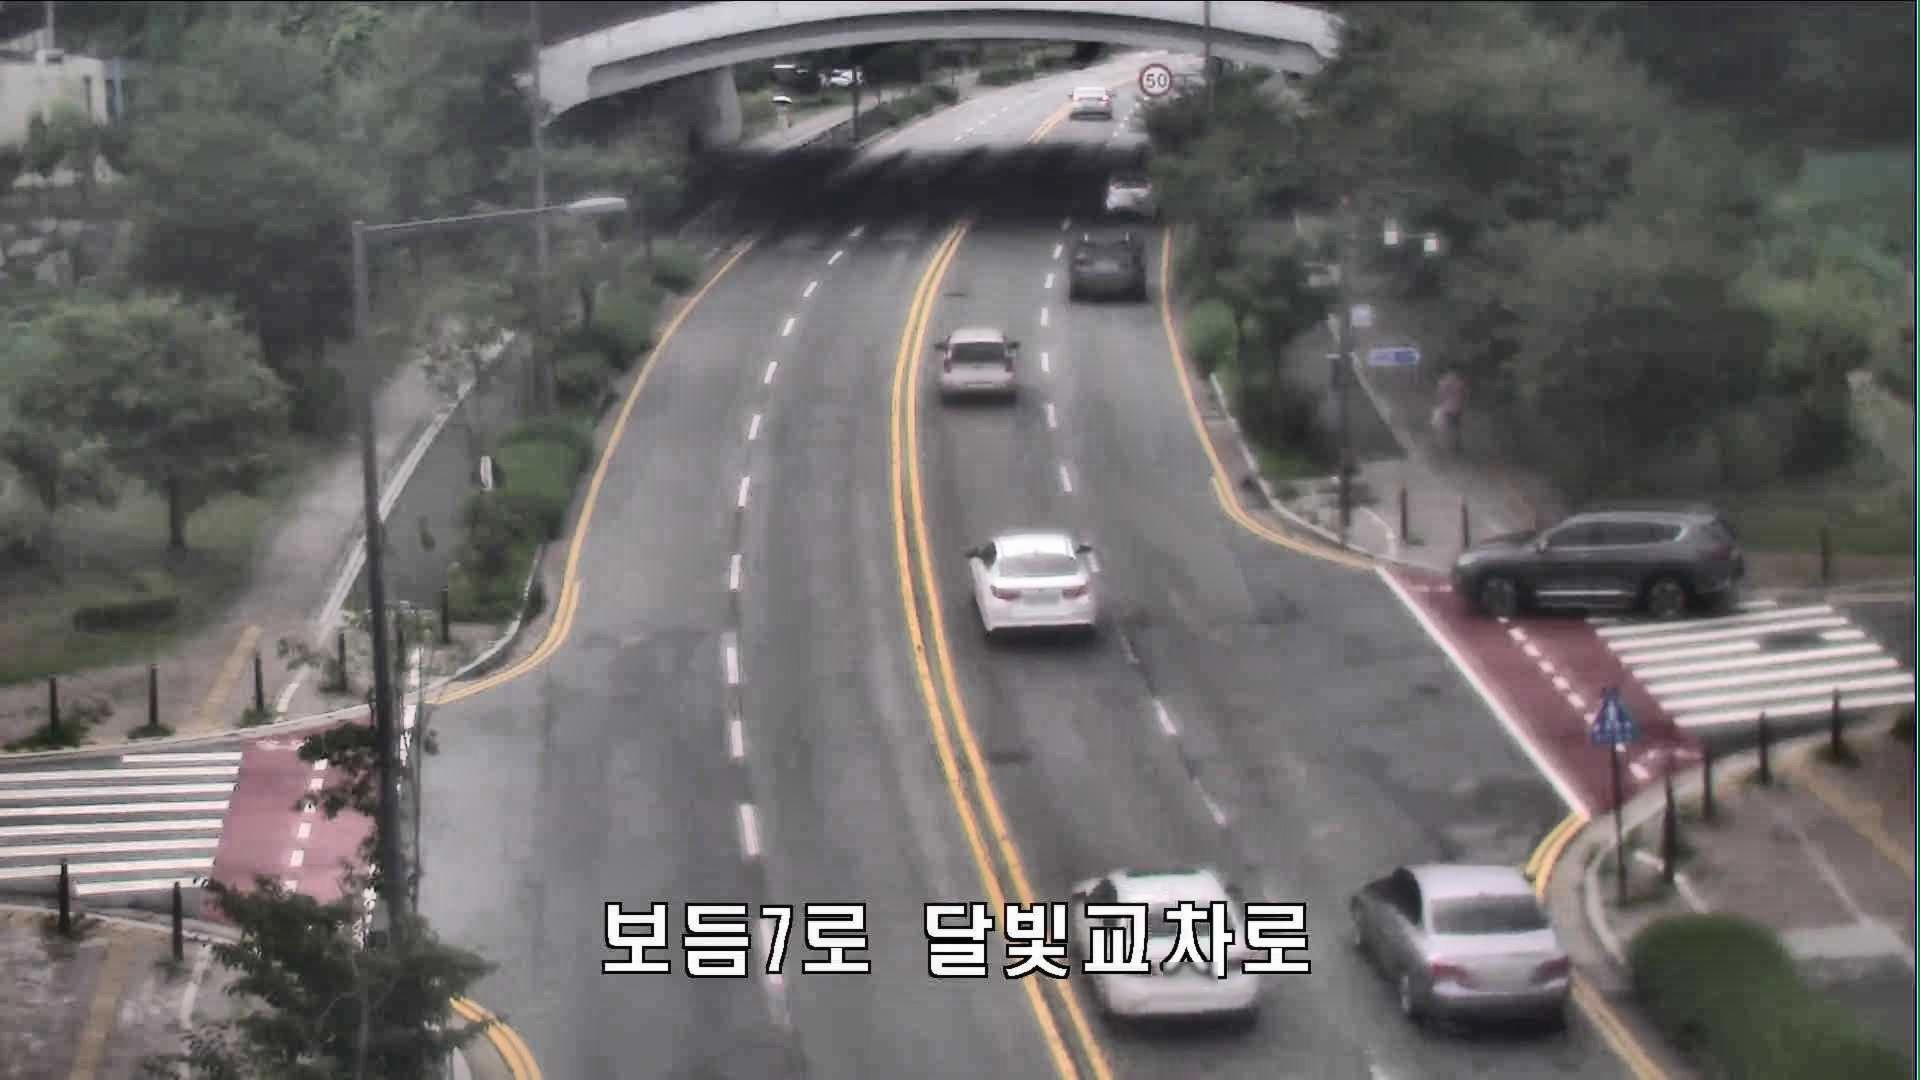sidewalk: (1429, 353, 1469, 459)
